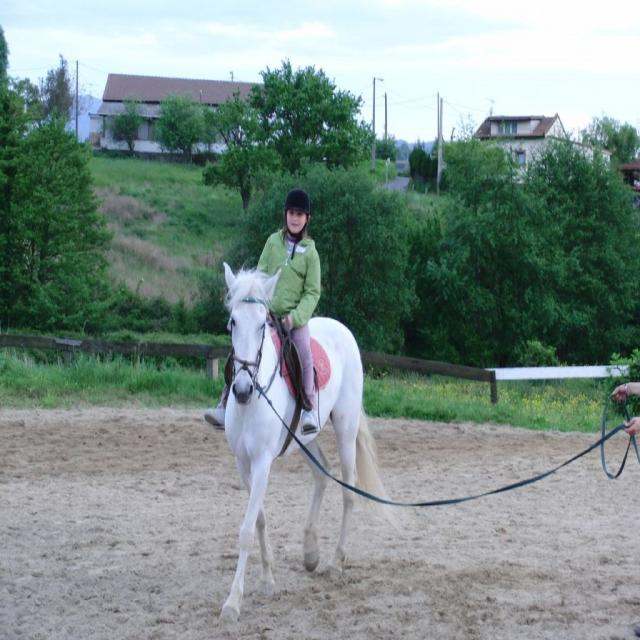Horse: (214, 257, 406, 627)
